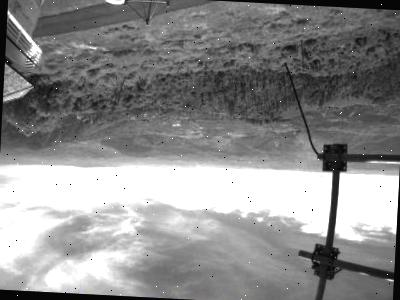smoke: (284, 128, 328, 200)
